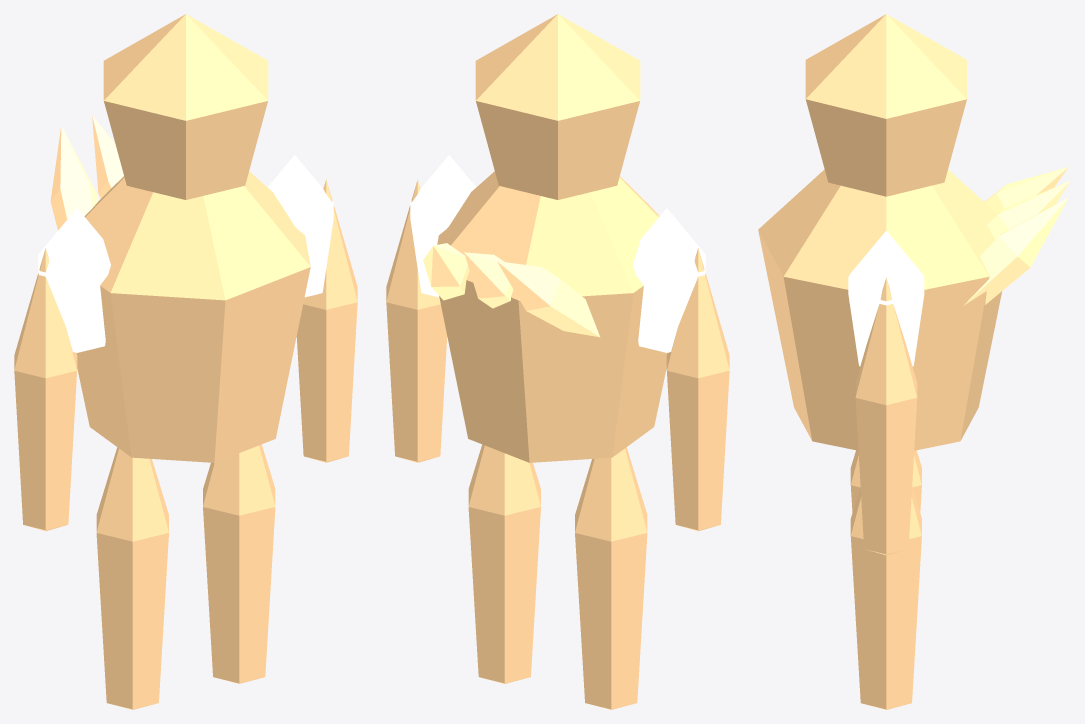
File: deep-fracture-creature-CrystalRevenant-earth.glb
The picture shows the model from 3 angles, left to right: view 1: azimuth 30°, elevation 25°; view 2: azimuth 150°, elevation 25°; view 3: azimuth 270°, elevation 25°; orthographic projection.
Parts seen in each view (by area): view 1: torso, helmet, leg-l, leg-r, arm-l, arm-r, armor-core-l, armor-core-r, back-crystal-0, back-crystal-1; view 2: torso, helmet, leg-l, leg-r, arm-l, arm-r, armor-core-l, armor-core-r, back-crystal-0, back-crystal-2, back-crystal-1; view 3: torso, helmet, arm-r, leg-r, armor-core-r, back-crystal-2, back-crystal-1, back-crystal-0, leg-l.
Boxes of the visible parts, bbox=[...] form: torso: bbox=[76, 171, 310, 462]; helmet: bbox=[103, 14, 268, 199]; leg-l: bbox=[96, 447, 168, 709]; leg-r: bbox=[203, 444, 275, 683]; arm-l: bbox=[14, 248, 77, 531]; arm-r: bbox=[296, 179, 357, 462]; armor-core-l: bbox=[38, 208, 110, 352]; armor-core-r: bbox=[267, 155, 333, 297]; back-crystal-0: bbox=[50, 125, 98, 230]; back-crystal-1: bbox=[92, 115, 123, 198]; torso: bbox=[437, 171, 667, 462]; helmet: bbox=[475, 14, 640, 199]; leg-l: bbox=[575, 447, 647, 709]; leg-r: bbox=[468, 444, 540, 683]; arm-l: bbox=[666, 248, 729, 531]; arm-r: bbox=[386, 179, 447, 462]; armor-core-l: bbox=[633, 208, 705, 352]; armor-core-r: bbox=[410, 155, 476, 297]; back-crystal-0: bbox=[497, 261, 599, 337]; back-crystal-2: bbox=[423, 243, 469, 300]; back-crystal-1: bbox=[464, 252, 513, 308]; torso: bbox=[758, 169, 1002, 450]; helmet: bbox=[805, 14, 966, 196]; arm-r: bbox=[855, 277, 917, 555]; leg-r: bbox=[850, 487, 921, 709]; armor-core-r: bbox=[848, 230, 924, 366]; back-crystal-2: bbox=[964, 197, 1068, 305]; back-crystal-1: bbox=[987, 180, 1070, 239]; back-crystal-0: bbox=[984, 167, 1068, 213]; leg-l: bbox=[850, 450, 921, 512].
Bounding box in the file's own units: 1.42 × 2.7 × 1.14.
